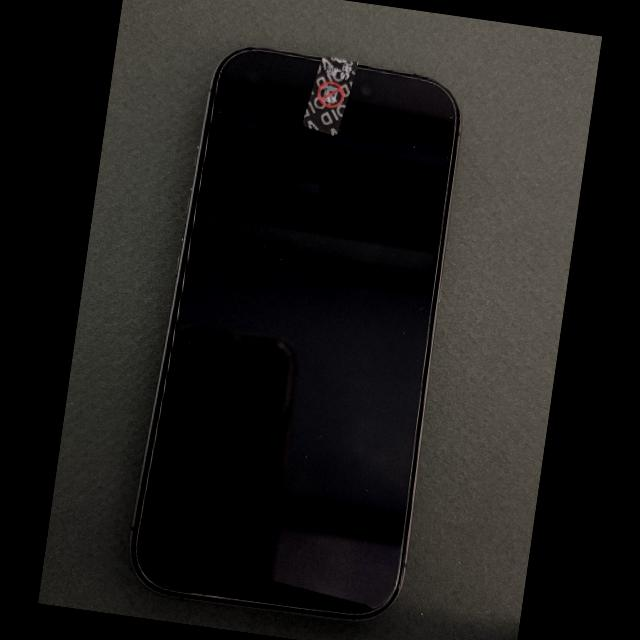lens: (361, 83, 373, 95)
phone: (129, 48, 461, 622)
sticker: (301, 56, 360, 135)
